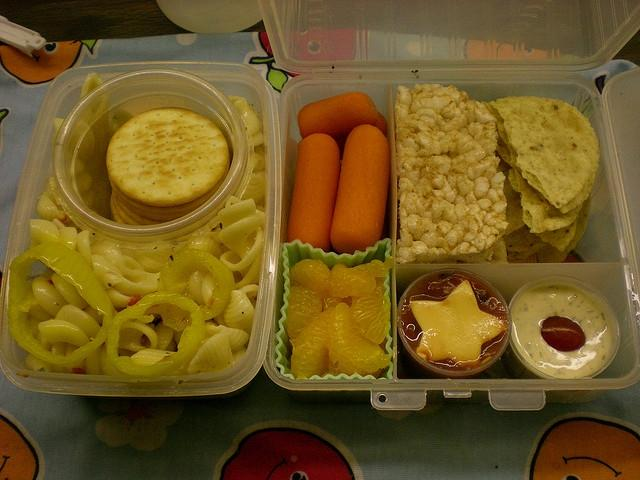carrot: (330, 122, 391, 255), (288, 133, 340, 253), (297, 91, 379, 139), (332, 111, 388, 160)
onion: (8, 241, 116, 366), (106, 292, 207, 376), (160, 248, 235, 320)
